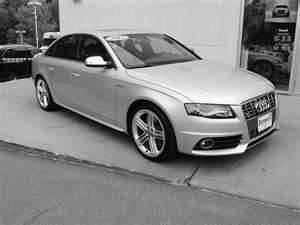car: (30, 29, 282, 164)
